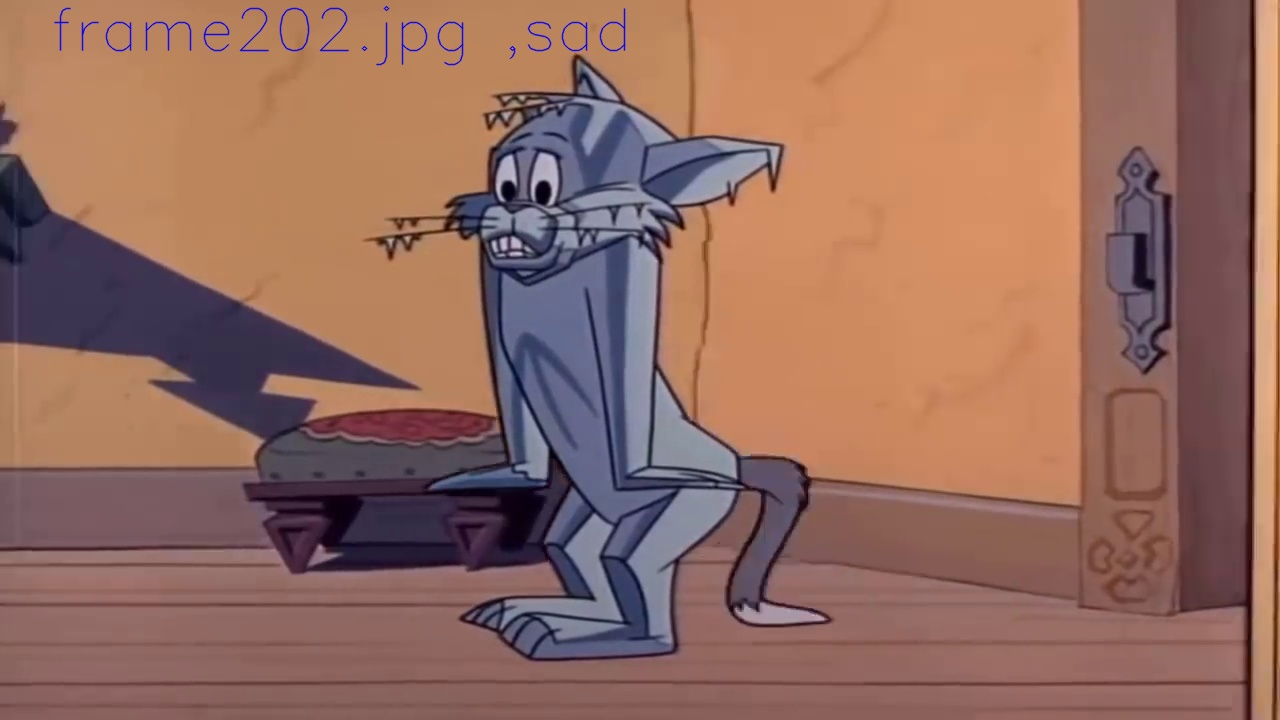sad: (482, 130, 572, 273)
